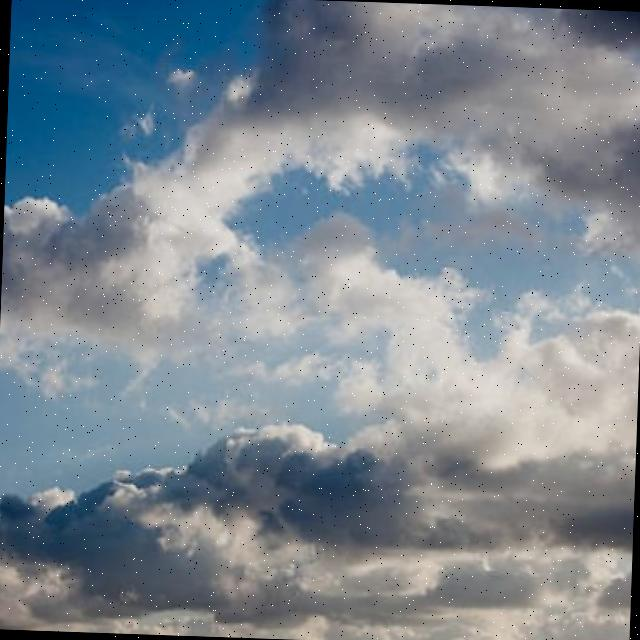As: (1, 401, 637, 640)
